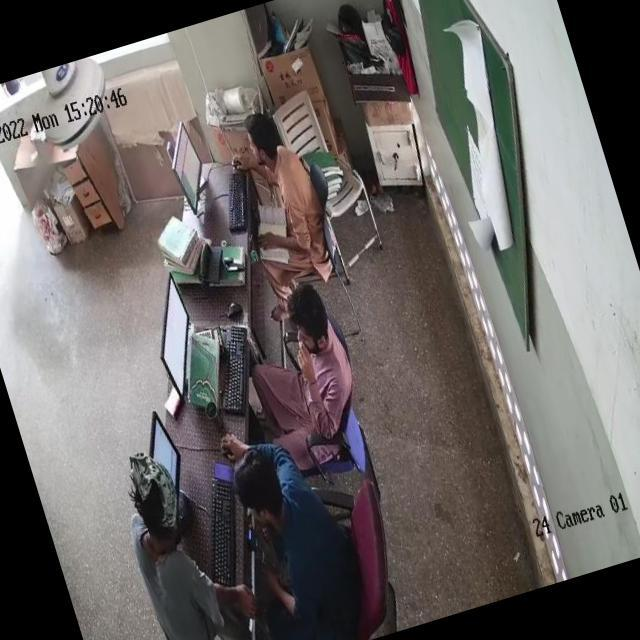person: (218, 418, 360, 628), (108, 447, 233, 640), (238, 281, 364, 461), (230, 102, 338, 281)
